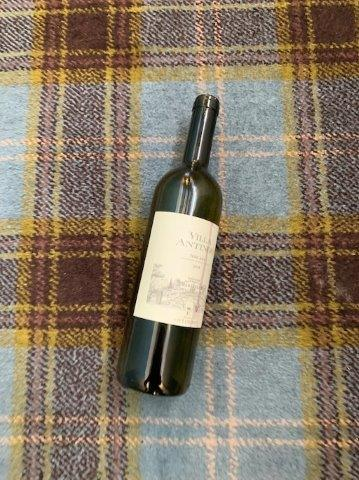botolkaca: (115, 95, 223, 397)
